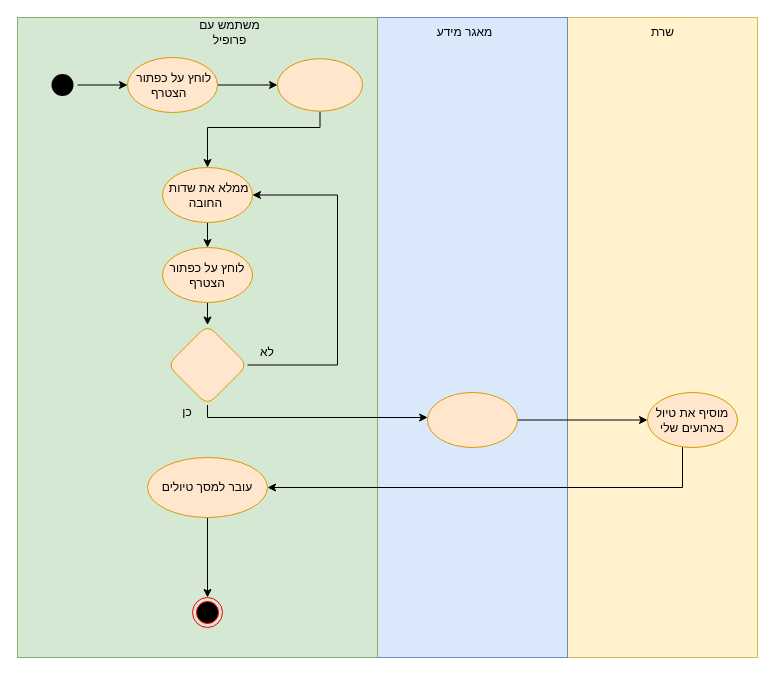
Image size: 775x675. Some labels were removed from this diagram. The shapes that lost their labels are listed below. From the top down, each one's box as (x1, y1, x2, y2) in pixels, then its label:
(276, 58, 362, 111): עובר לדף הצטרפות
(166, 324, 248, 405): שדות חובה מליאים?
(426, 392, 518, 448): בודק את הפרטים
